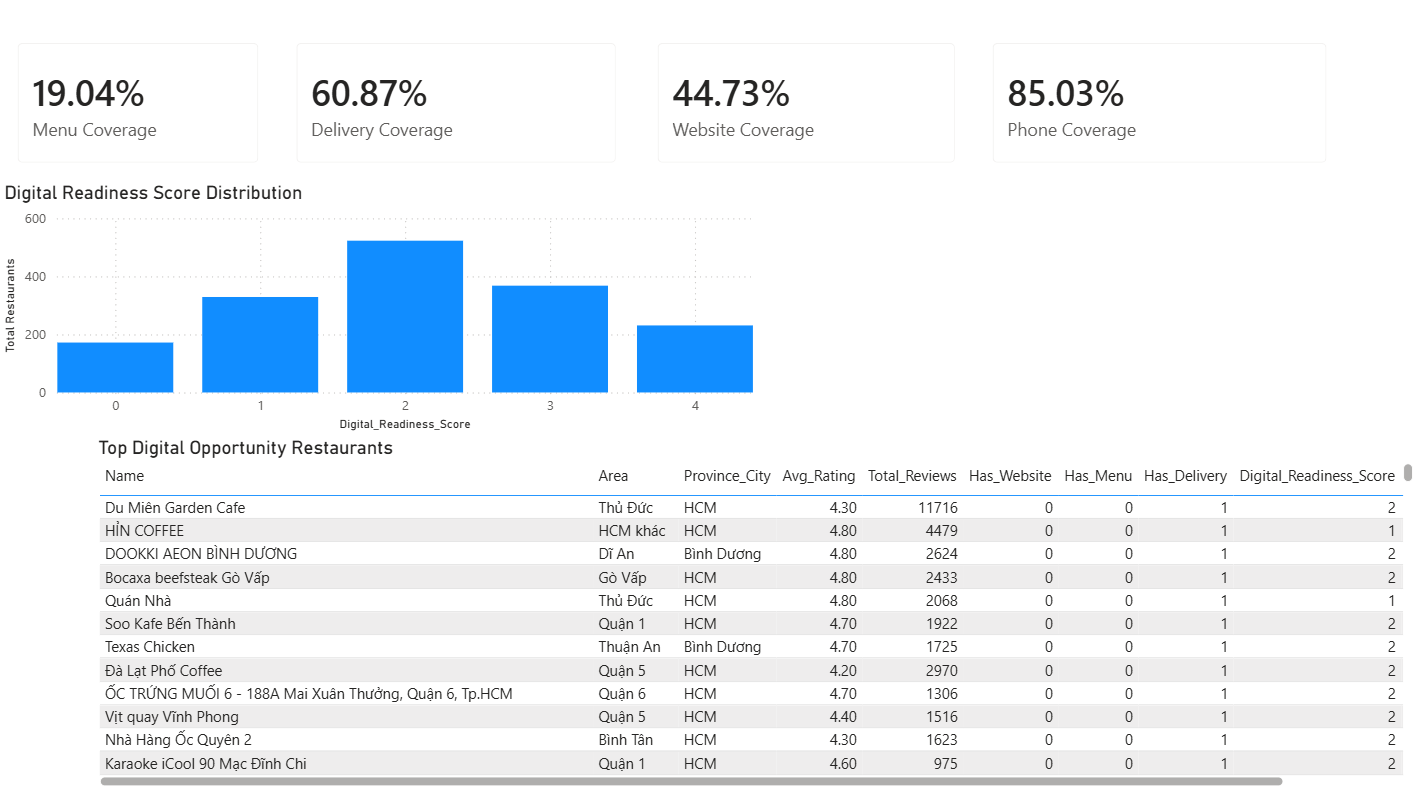

Layout of this report page (visuals, bound fields, positions):
{"tool":"powerbi","page":{"name":"Page 4","canvas":[1280,720],"ordinal":3},"visuals":[{"type":"clusteredColumnChart","title":"Digital Readiness Score Distribution","fields":{"Y":["_Measures.Total Restaurants"],"Category":["restaurants_cleaned.Digital_Readiness_Score"]},"box":[0,170,685,230],"z":0},{"type":"cardVisual","fields":{"Data":["_Measures.Website Coverage"]},"box":[577,28,302,142],"z":1000},{"type":"cardVisual","fields":{"Data":["_Measures.Menu Coverage"]},"box":[0,28,251,142],"z":2000},{"type":"cardVisual","fields":{"Data":["_Measures.Delivery Coverage"]},"box":[251,28,322,142],"z":3000},{"type":"tableEx","title":"Top Digital Opportunity Restaurants","fields":{"Values":["restaurants_cleaned.Name","restaurants_cleaned.Area","restaurants_cleaned.Province_City","restaurants_cleaned.Avg_Rating","restaurants_cleaned.Total_Reviews","restaurants_cleaned.Has_Website","restaurants_cleaned.Has_Menu","restaurants_cleaned.Has_Delivery","restaurants_cleaned.Digital_Readiness_Score","restaurants_cleaned.Opportunity_Score"]},"box":[84.4,400,1195.6,320],"z":4000},{"type":"cardVisual","fields":{"Data":["_Measures.Phone Coverage"]},"box":[879,28,335,142],"z":5000}]}

Visuals, with their boxes in screenshot pixels (x1, y1, x2, y2), scaled from the page's 1280x720 canvas onto the 1414x787 screenshot:
"Digital Readiness Score Distribution" clusteredColumnChart: {"x1": 0, "y1": 186, "x2": 757, "y2": 437}
cardVisual - _Measures.Website Coverage: {"x1": 637, "y1": 31, "x2": 971, "y2": 186}
cardVisual - _Measures.Menu Coverage: {"x1": 0, "y1": 31, "x2": 277, "y2": 186}
cardVisual - _Measures.Delivery Coverage: {"x1": 277, "y1": 31, "x2": 633, "y2": 186}
"Top Digital Opportunity Restaurants" tableEx: {"x1": 93, "y1": 437, "x2": 1413, "y2": 786}
cardVisual - _Measures.Phone Coverage: {"x1": 971, "y1": 31, "x2": 1341, "y2": 186}
